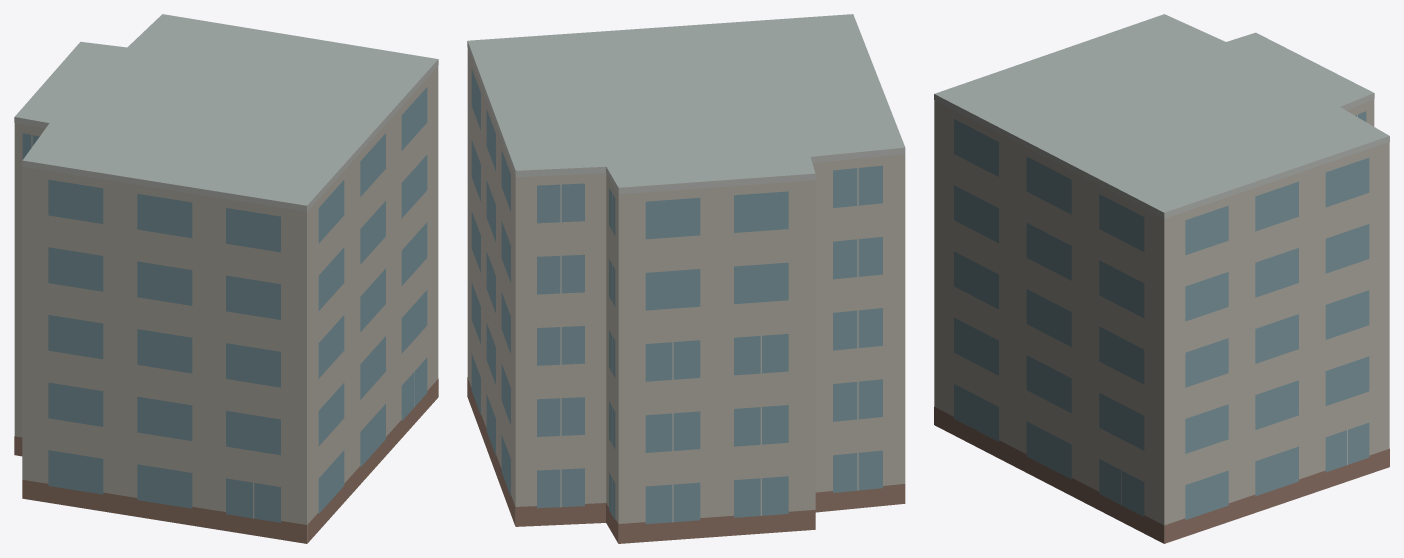
File: survey-upis-33042794.glb
The picture shows the model from 3 angles, left to right: view 1: azimuth 30°, elevation 25°; view 2: azimuth 150°, elevation 25°; view 3: azimuth 270°, elevation 25°; orthographic projection. The views are drawn at different scales.
Parts seen in each view (by area): view 1: survey-upis-33042794.tmp; view 2: survey-upis-33042794.tmp; view 3: survey-upis-33042794.tmp.
Part boxes in pixels (x1,y1,x2,y2): survey-upis-33042794.tmp: (14,14,438,543); survey-upis-33042794.tmp: (467,14,905,543); survey-upis-33042794.tmp: (934,14,1389,543).
Size of the model in its own units: 17.26 by 13.4 by 16.72.
